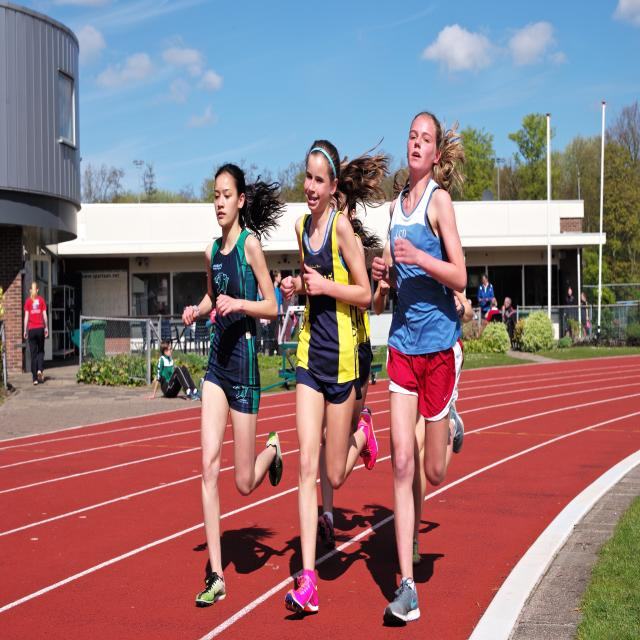running: (372, 108, 469, 631), (178, 159, 283, 609), (280, 135, 370, 618)
